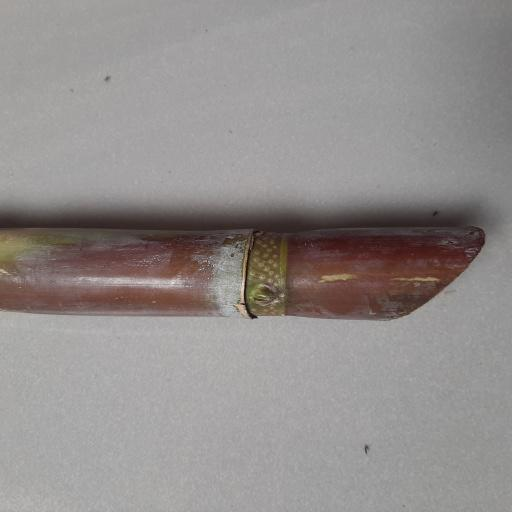Bud: (251, 284, 280, 308)
